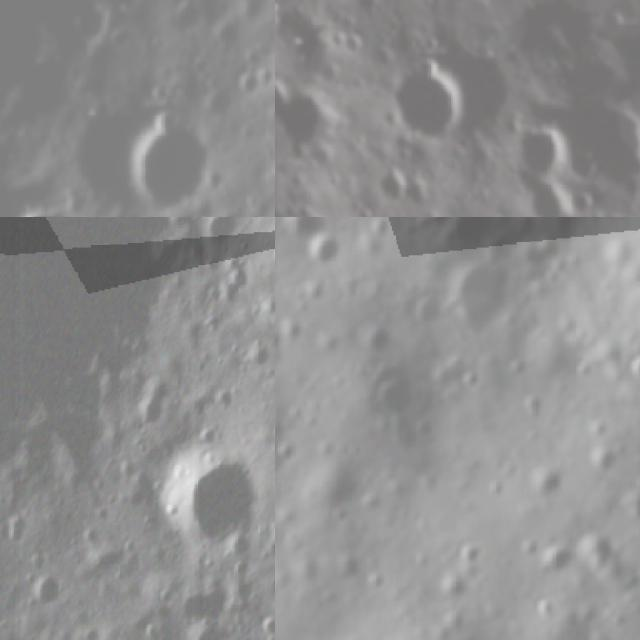crater: (0, 217, 197, 409), (0, 0, 231, 105), (331, 0, 640, 60), (169, 439, 270, 551), (128, 109, 222, 216), (378, 54, 467, 150), (448, 259, 517, 344), (422, 217, 515, 274), (501, 112, 565, 192), (595, 9, 640, 109), (281, 89, 345, 158), (504, 168, 578, 217), (362, 363, 419, 426), (181, 576, 241, 631), (302, 228, 350, 270), (525, 456, 568, 502), (410, 288, 448, 336), (25, 570, 64, 616), (366, 170, 408, 210), (588, 436, 624, 482), (21, 192, 87, 217), (199, 217, 242, 254), (355, 318, 397, 354), (539, 540, 577, 578), (238, 63, 275, 100), (328, 26, 363, 60), (564, 189, 601, 217), (275, 68, 291, 131), (620, 347, 640, 387), (454, 543, 484, 568), (361, 570, 386, 598), (275, 0, 286, 48), (264, 517, 275, 559)
